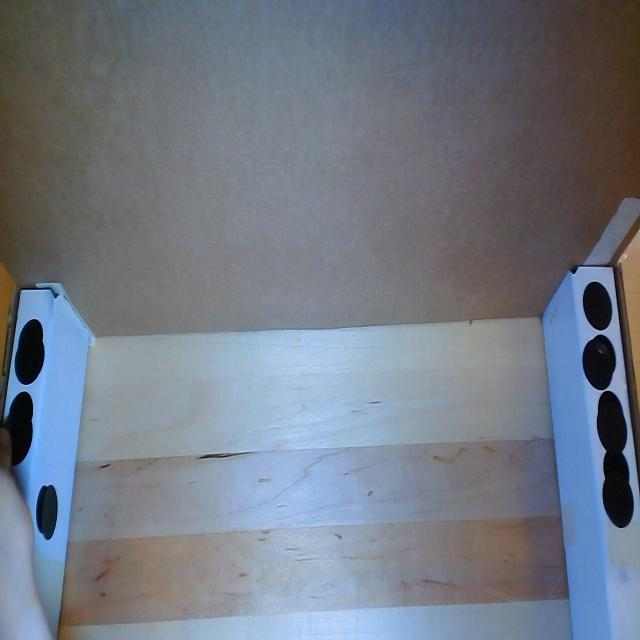Hole: (601, 449, 632, 491), (17, 318, 45, 360), (9, 388, 34, 431), (597, 388, 624, 427), (593, 334, 617, 376), (36, 482, 50, 538)
Sticker: (601, 472, 635, 529), (3, 411, 33, 473), (582, 276, 614, 332), (13, 335, 46, 388), (596, 404, 630, 455), (582, 337, 611, 391), (42, 485, 60, 544)
